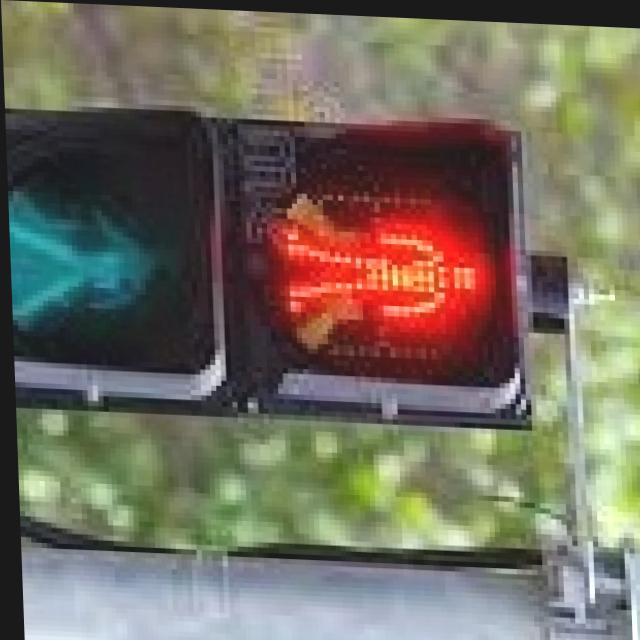red_light: (257, 159, 505, 373)
